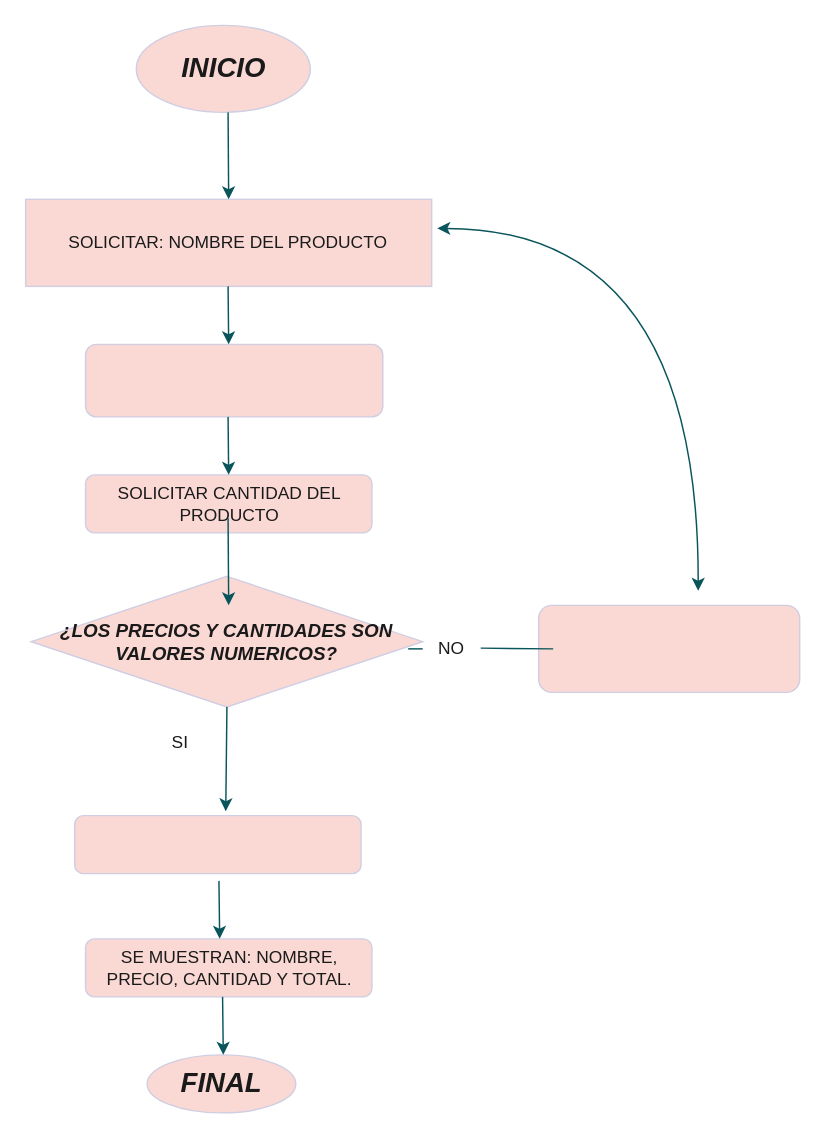
This 825x1138 diagram has some shape labels left out. The shapes that lost their labels are listed below. From the top down, each one's box as (x1, y1, x2, y2) in pixels, then its label:
(84, 343, 383, 417): SOLICITAR PRECIO DEL PRODUCTO
(537, 604, 800, 692): ERROR: Ingrese solo valores numericos
(73, 814, 361, 874): CALCULAR COSTO TOTAL= PRECIO x CANTIDAD
